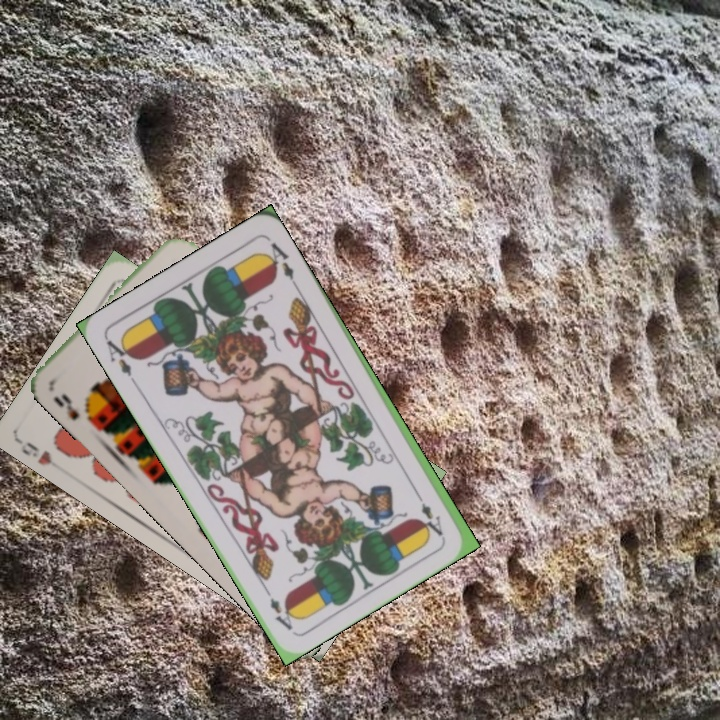EA: (102, 334, 140, 387), (410, 485, 446, 539)
H9: (18, 438, 55, 468)
S9: (49, 390, 98, 427)
